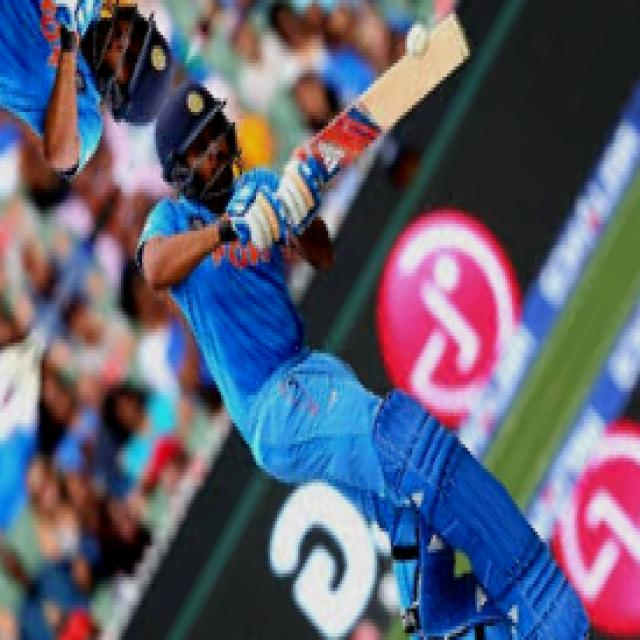toe: (447, 10, 472, 66)
